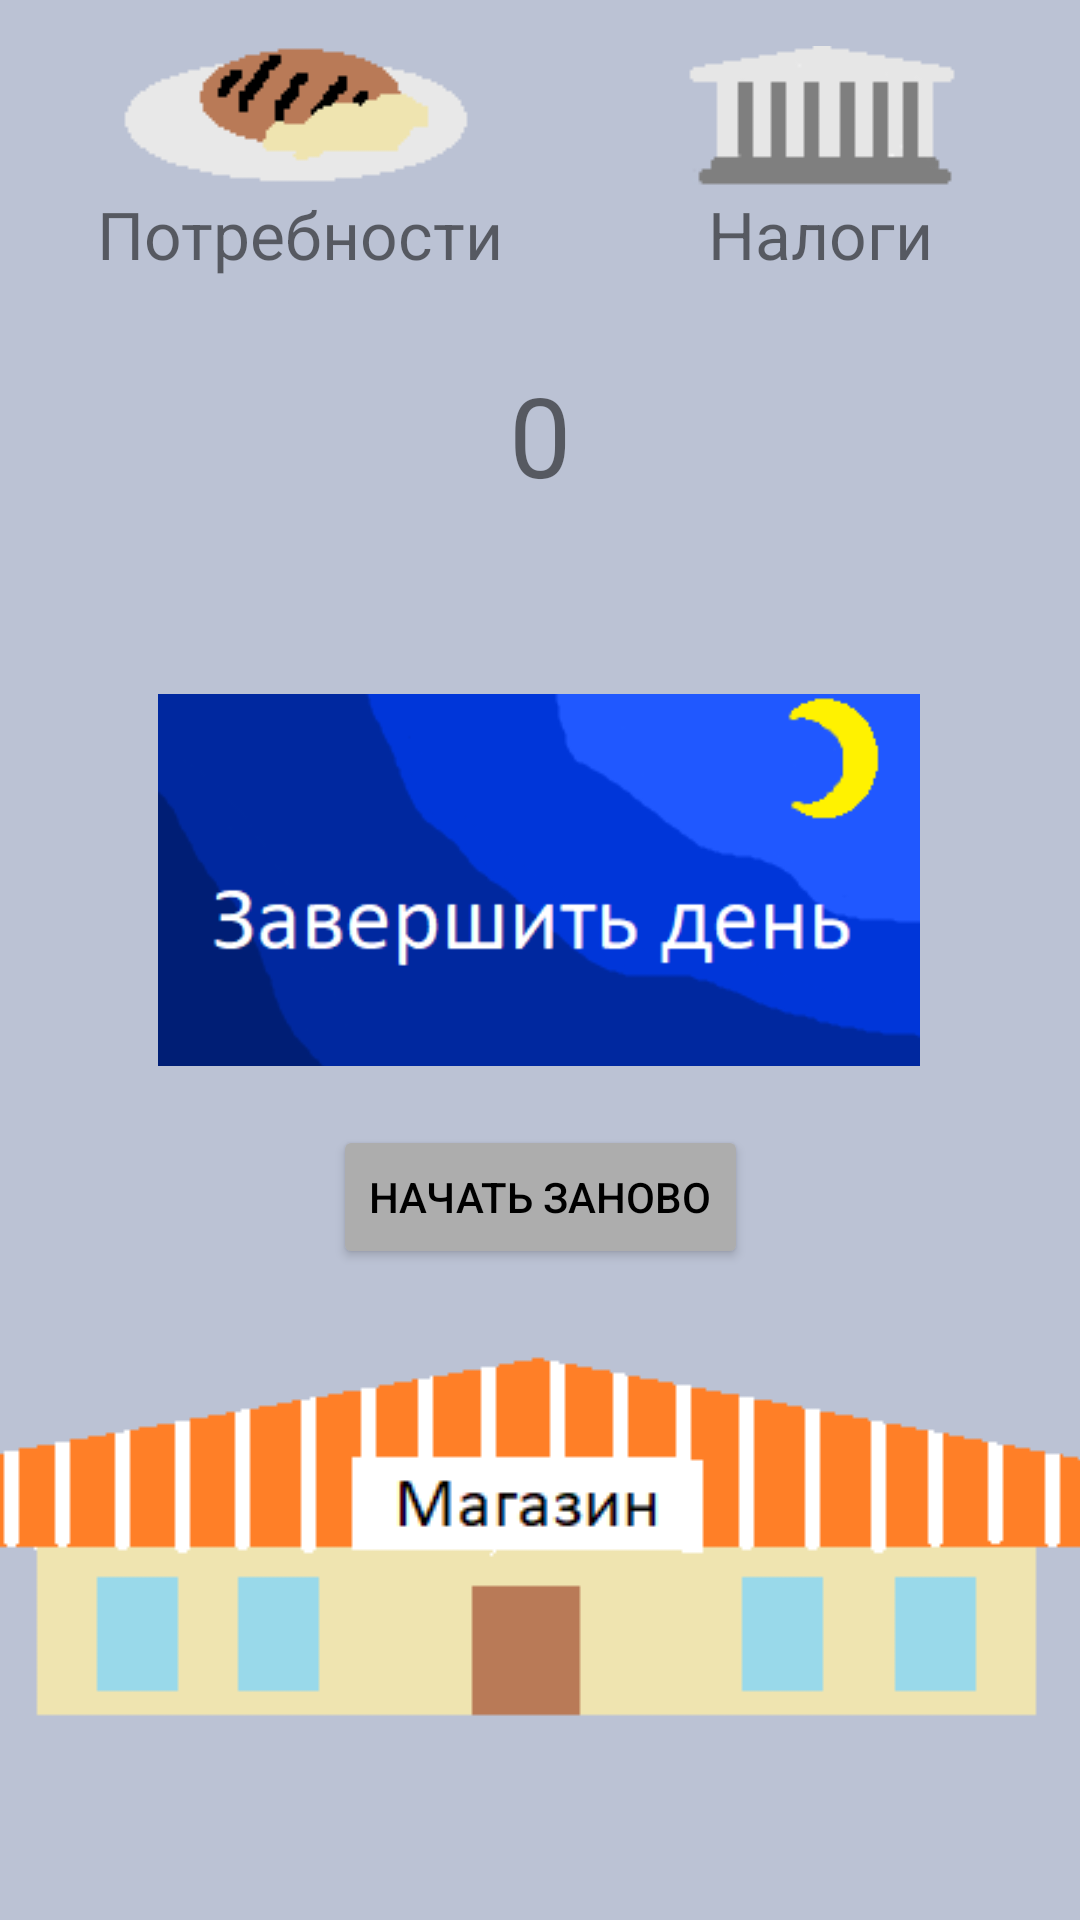

Icon bounding boxes for this 1080 × 1920 phone screenshot, format [left=x1, top=y1, right=x2, bottom=y2]:
bank: [left=690, top=46, right=954, bottom=185]
food: [left=125, top=48, right=467, bottom=181]
